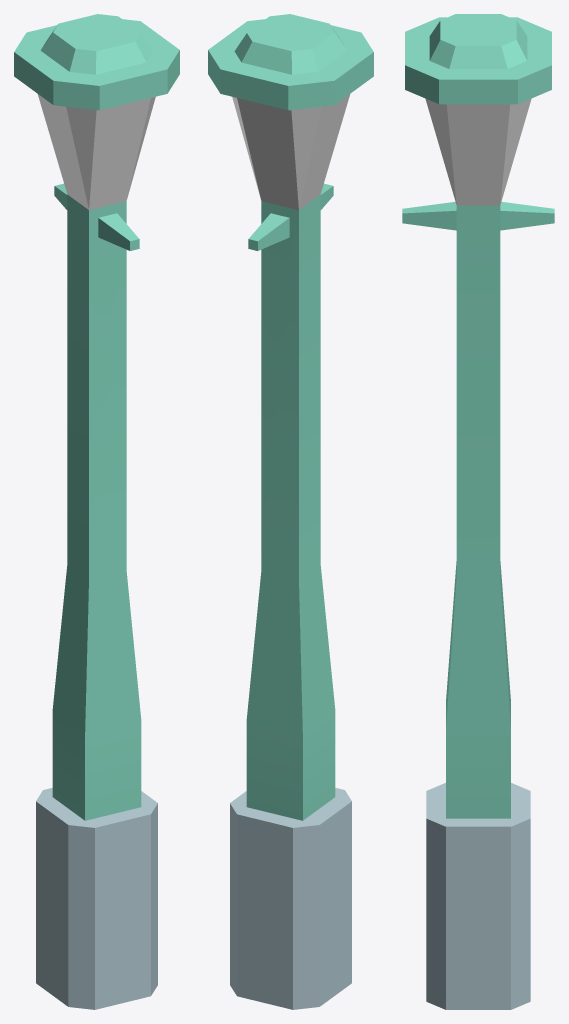
3 renders of one model, left to right at view 1: azimuth 30°, elevation 25°; view 2: azimuth 150°, elevation 25°; view 3: azimuth 270°, elevation 25°, orthographic.
Visible parts, largest first — view 1: lantern; view 2: lantern; view 3: lantern.
Boxes of the visible parts, <box> form: lantern: <box>14,14,179,1009</box>; lantern: <box>208,14,373,1009</box>; lantern: <box>402,14,554,1009</box>.
Bounding box in the file's own units: 0.2164 × 1.56 × 0.2243.
